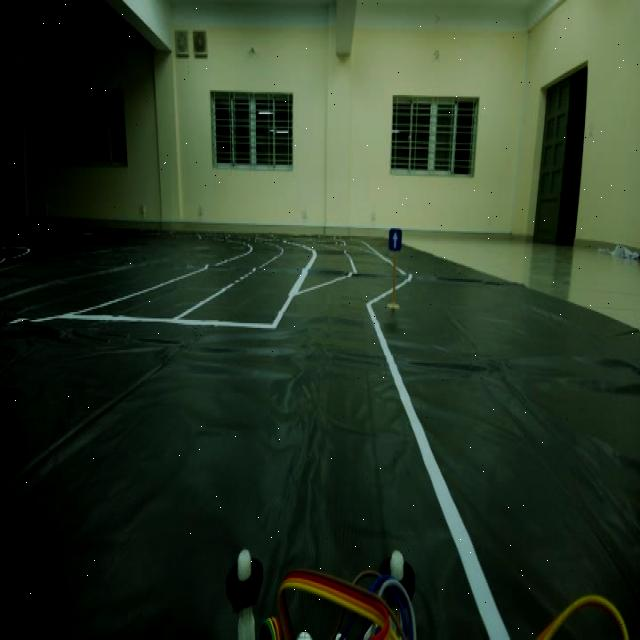onewayroad: (388, 223, 404, 262)
